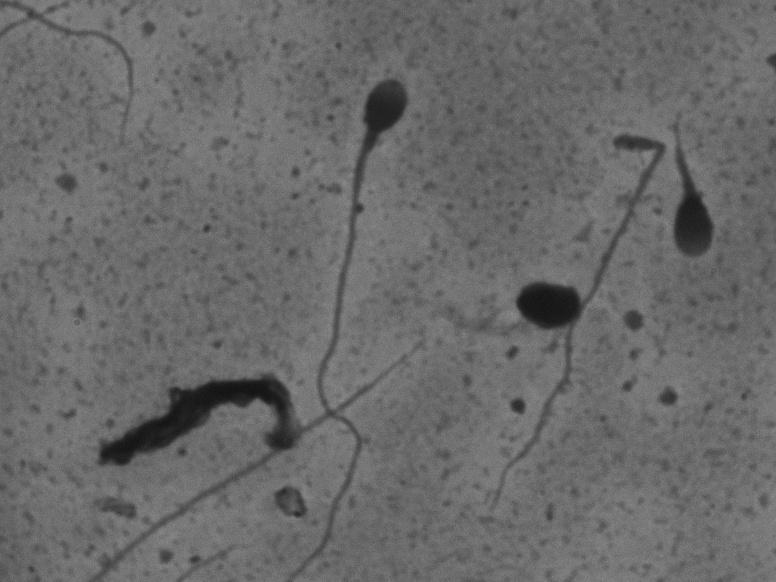Abnormal: (663, 104, 754, 272)
Normal: (296, 76, 420, 579)
